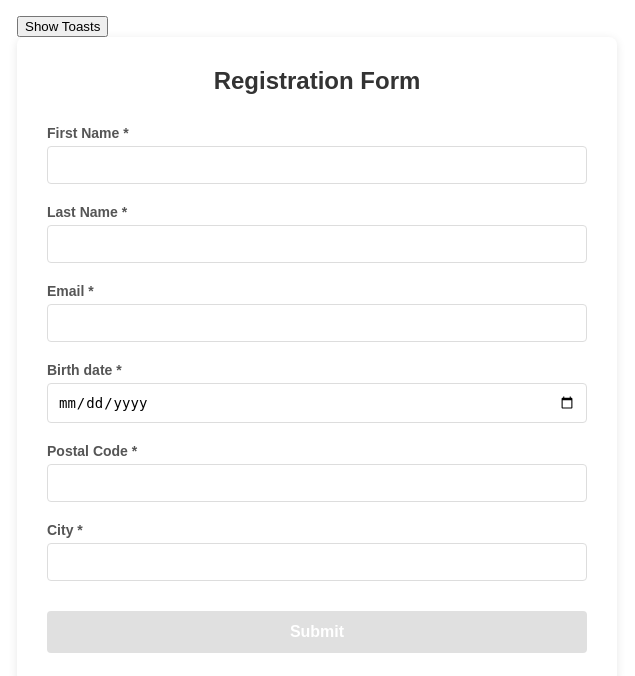
RegistrationForm - Integration Tests › should show error message when email is invalid
Step 1. Type "invalid-email" into the field labelled "Email *" → (317, 323), box [47, 304, 587, 342]
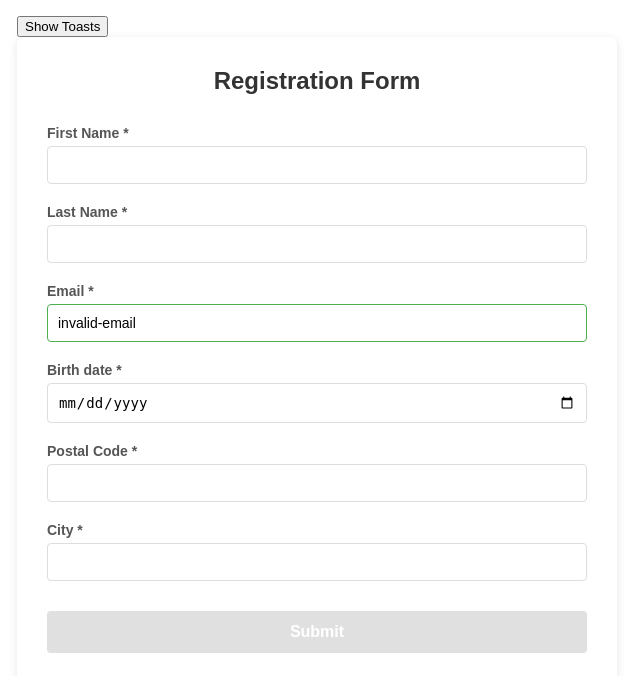
Step 2. Press Tab
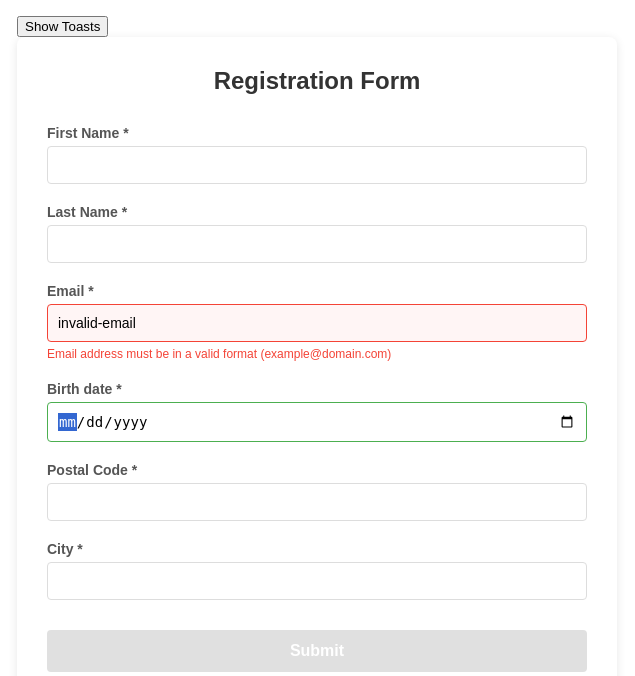
Expected: the text "Email address must be in a valid format (example@domain.com)" is shown, [47, 347, 391, 361]
